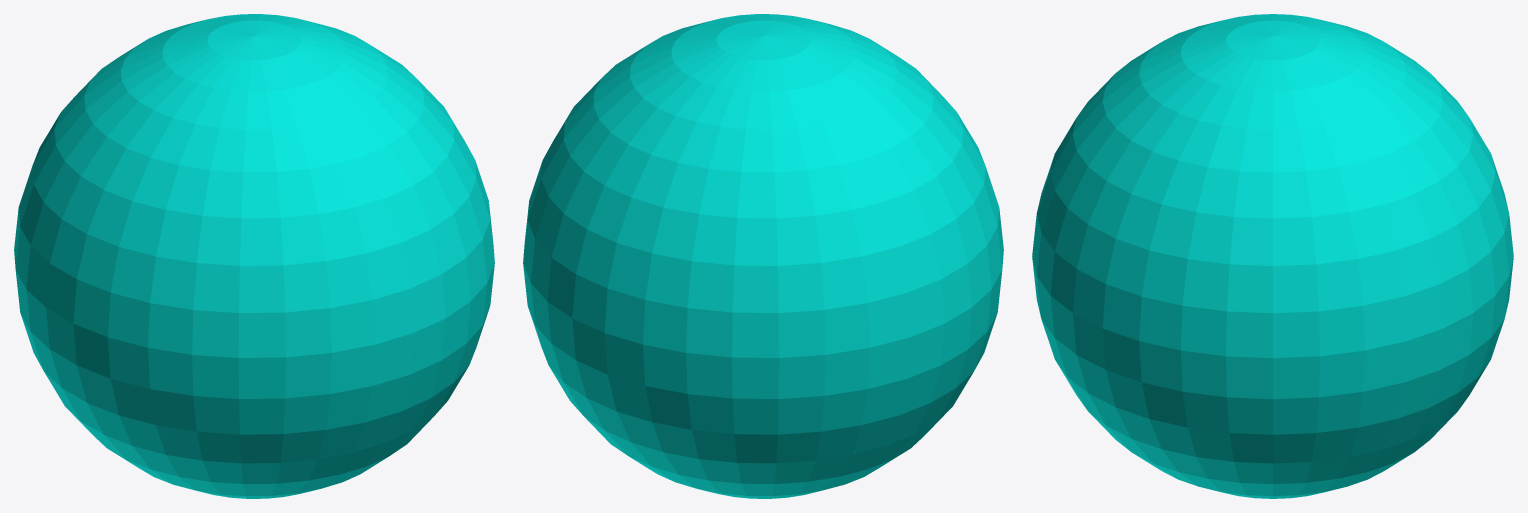
The model's file is Bolha.fbx.
3 views of the same model, side by side, from view 1: azimuth 30°, elevation 25°; view 2: azimuth 150°, elevation 25°; view 3: azimuth 270°, elevation 25° (orthographic).
Visible parts, largest first — view 1: Sphere; view 2: Sphere; view 3: Sphere.
Part boxes in pixels (box(x1,y1,x2,y2)): Sphere: box(14, 14, 494, 498); Sphere: box(523, 14, 1003, 498); Sphere: box(1032, 14, 1513, 498).
Size of the model in its own units: 451 by 455 by 451.
